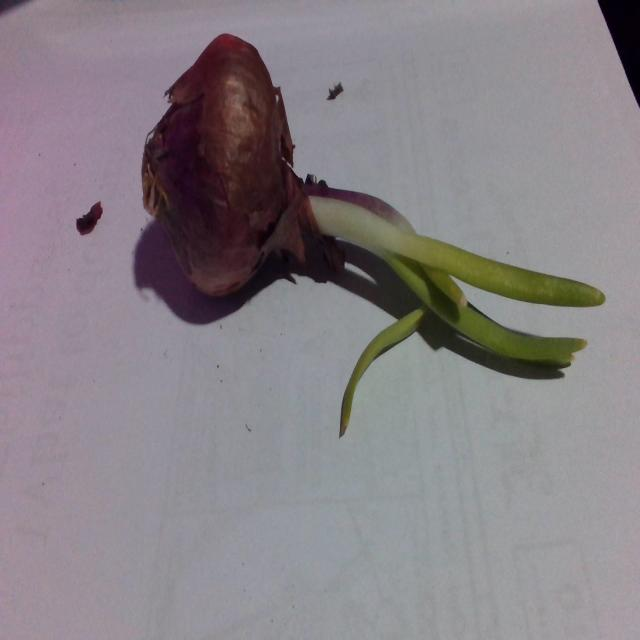onion: (128, 14, 613, 447)
